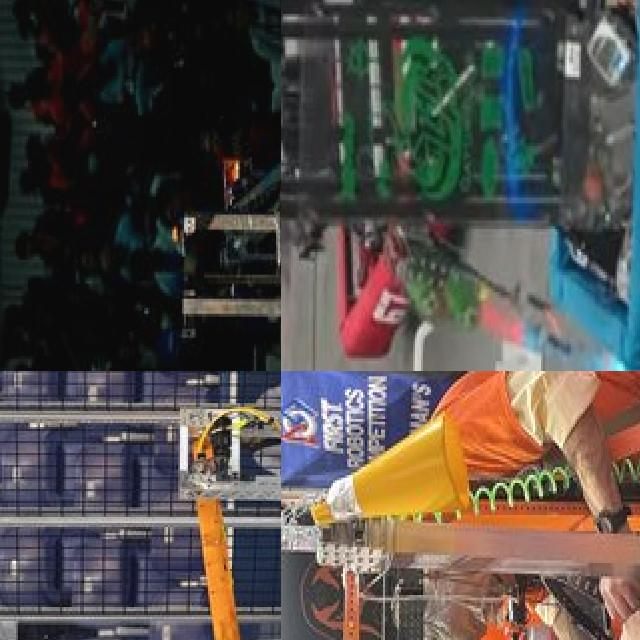FRC-Robots: (281, 0, 640, 371), (350, 371, 640, 640), (137, 0, 281, 371), (173, 371, 281, 640)
